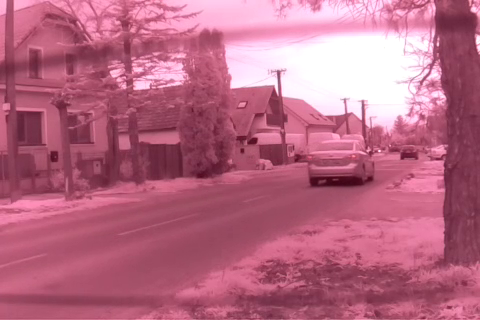car: (304, 138, 377, 188), (399, 143, 419, 160)
